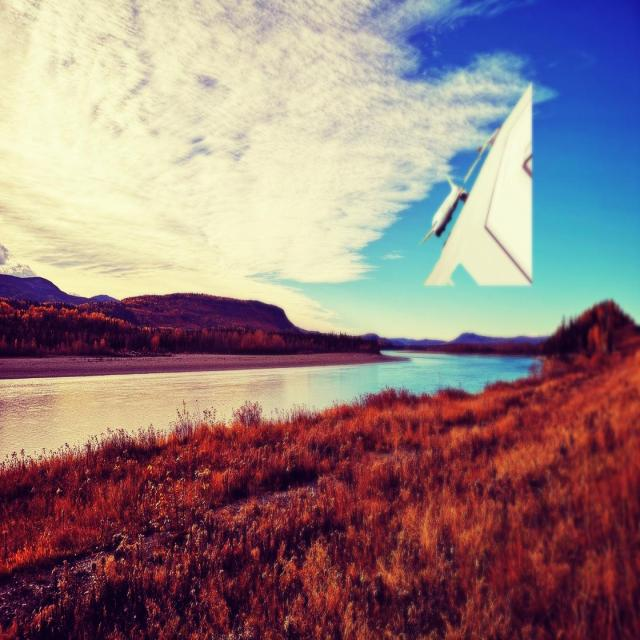airplane: (420, 80, 533, 286)
